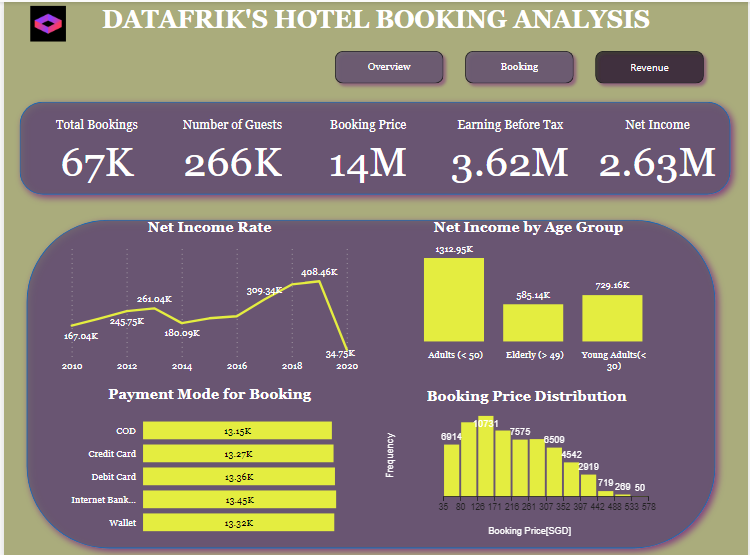

The dashboard page shown, as its layout file describes it:
{"tool":"powerbi","page":{"name":"Revenue","canvas":[960,720],"ordinal":2},"visuals":[{"type":"shape","box":[5.7,114,947.1,150],"z":0},{"type":"textbox","box":[0,0,960,55.7],"z":1000},{"type":"image","box":[12.9,0,88.6,55.7],"z":2000},{"type":"cardVisual","fields":{"Data":["Hotel_Booking.Total Booking"]},"box":[32.3,131.6,175.5,113.5],"z":3000},{"type":"cardVisual","fields":{"Data":["Hotel_Booking.# Guests"]},"box":[207.7,131.6,174.2,113.5],"z":4000},{"type":"cardVisual","fields":{"Data":["Hotel_Booking.Total Booking Price"]},"box":[381.9,131.6,176.8,113.5],"z":5000},{"type":"cardVisual","fields":{"Data":["Hotel_Booking.Total Earning Before Tax"]},"box":[558.7,131.6,189.7,113.5],"z":6000},{"type":"cardVisual","fields":{"Data":["Hotel_Booking.Total Net Income"]},"box":[748.4,131.6,191,113.5],"z":7000},{"type":"bookmarkNavigator","box":[418.1,54,494.2,60.6],"z":8000},{"type":"shape","box":[14.2,265.8,918.7,454.2],"z":8001},{"type":"lineChart","title":"Net Income Rate","fields":{"Category":["Hotel_Booking.Check-Out Date.Variation.Date Hierarchy.Year","Hotel_Booking.Check-Out Date.Variation.Date Hierarchy.Quarter","Hotel_Booking.Check-Out Date.Variation.Date Hierarchy.Month","Hotel_Booking.Check-Out Date.Variation.Date Hierarchy.Day"],"Y":["Hotel_Booking.Total Net Income"]},"box":[69,280,394,205],"z":8002},{"type":"columnChart","title":"Net Income by Age Group","fields":{"Category":["Hotel_Booking.Age Group"],"Y":["Hotel_Booking.Total Net Income"]},"box":[480,280,394,205],"z":8003},{"type":"barChart","title":"Payment Mode for Booking","fields":{"Category":["Hotel_Booking.Payment Mode"],"Y":["Hotel_Booking.Total Booking"]},"box":[69,496,394,205],"z":8004},{"type":"Histogram1445664487616","title":"Booking Price Distribution","fields":{"Values":["Hotel_Booking.Booking Price[SGD]"],"Frequency":["Hotel_Booking.Total Booking"]},"box":[478,498,394,205],"z":8005}]}

Visuals, with their boxes in screenshot pixels (x1, y1, x2, y2), scaled from the page's 960x720 canvas onto the 750x555 screenshot:
shape: x1=4 y1=88 x2=744 y2=204
textbox: x1=0 y1=0 x2=749 y2=43
image: x1=10 y1=0 x2=79 y2=43
cardVisual - Hotel_Booking.Total Booking: x1=25 y1=101 x2=162 y2=189
cardVisual - Hotel_Booking.# Guests: x1=162 y1=101 x2=298 y2=189
cardVisual - Hotel_Booking.Total Booking Price: x1=298 y1=101 x2=436 y2=189
cardVisual - Hotel_Booking.Total Earning Before Tax: x1=436 y1=101 x2=585 y2=189
cardVisual - Hotel_Booking.Total Net Income: x1=585 y1=101 x2=734 y2=189
bookmarkNavigator: x1=327 y1=42 x2=713 y2=88
shape: x1=11 y1=205 x2=729 y2=554
"Net Income Rate" lineChart: x1=54 y1=216 x2=362 y2=374
"Net Income by Age Group" columnChart: x1=375 y1=216 x2=683 y2=374
"Payment Mode for Booking" barChart: x1=54 y1=382 x2=362 y2=540
"Booking Price Distribution" Histogram1445664487616: x1=373 y1=384 x2=681 y2=542
